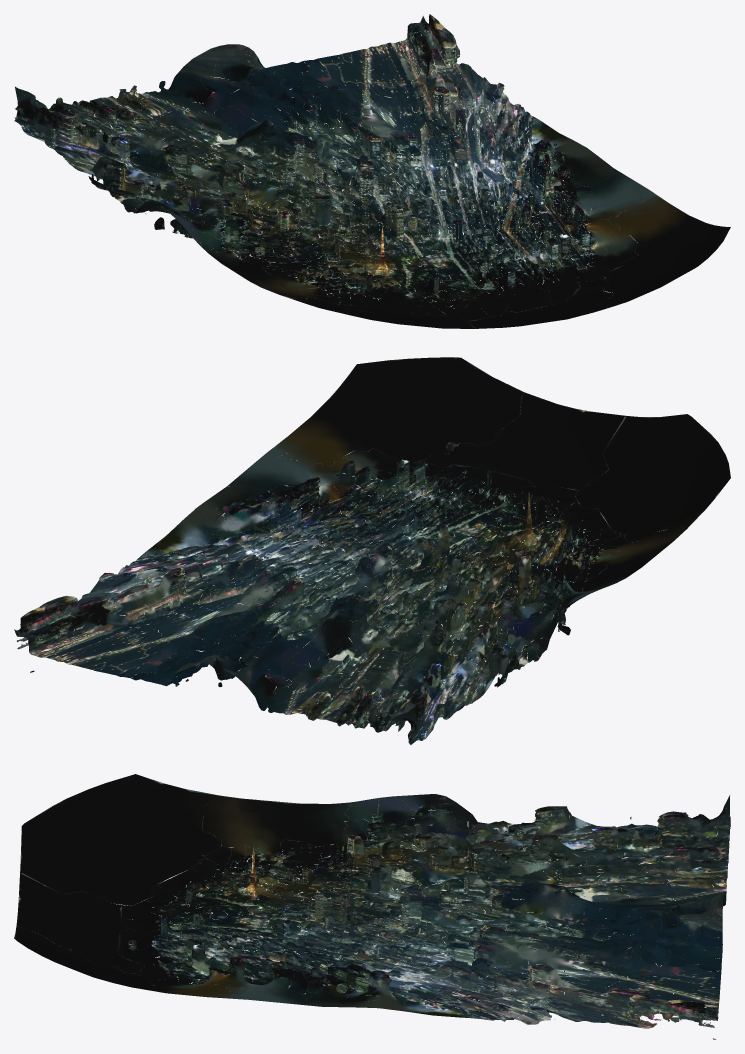
File: tokyo-mob.glb
The picture shows the model from 3 angles, top to bottom: view 1: azimuth 30°, elevation 25°; view 2: azimuth 150°, elevation 25°; view 3: azimuth 270°, elevation 25°; orthographic projection. The views are drawn at different scales.
Visible parts, largest first — view 1: Object_2, Object_6, Object_10; view 2: Object_2, Object_6, Object_10; view 3: Object_6, Object_10, Object_2.
Boxes of the visible parts, x1,y1,x2,y2 form: Object_2: (28,16,730,317); Object_6: (14,14,638,328); Object_10: (18,29,648,328); Object_2: (14,357,686,738); Object_6: (17,414,730,745); Object_10: (17,392,624,740); Object_6: (20,774,730,1039); Object_10: (16,796,729,1027); Object_2: (14,794,726,1039).
Size of the model in its own units: 95.59 by 16.47 by 145.
Materials: 3 (3 with a texture image).
